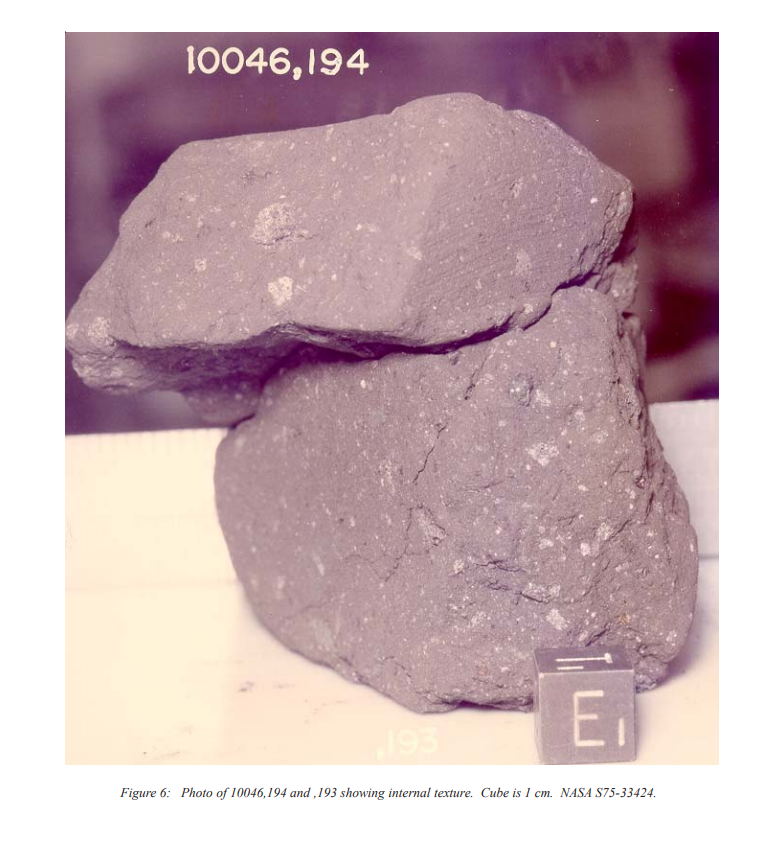Breccia: (63, 69, 685, 661)
